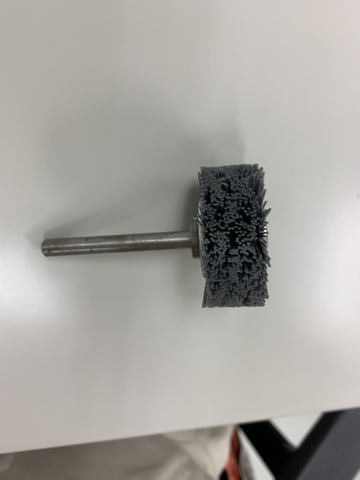Wheel Brush: (34, 162, 276, 308), (131, 158, 279, 323)
